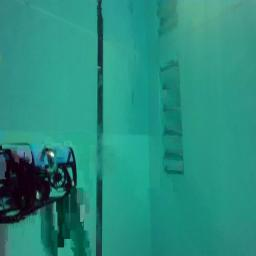front: (0, 144, 77, 226)
